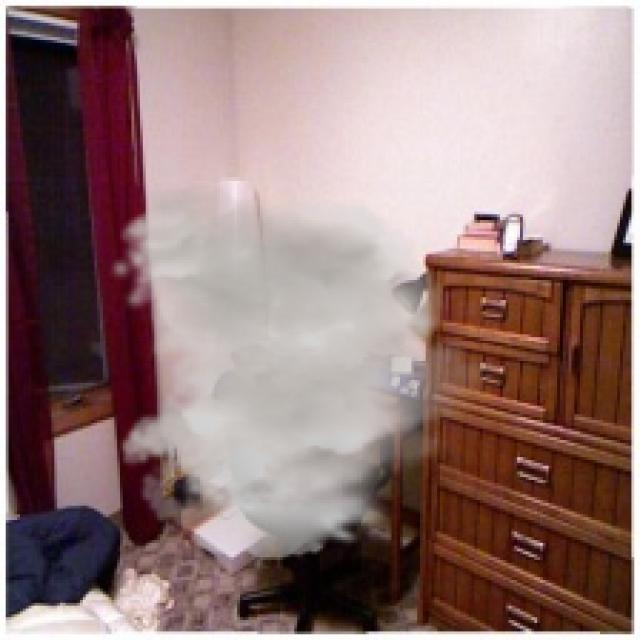Smoke: (106, 183, 494, 560)
